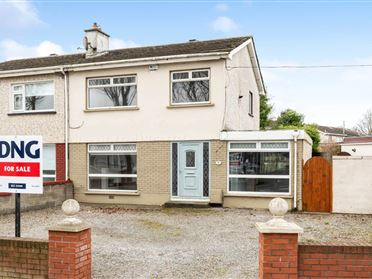property sign: (1, 132, 52, 206)
